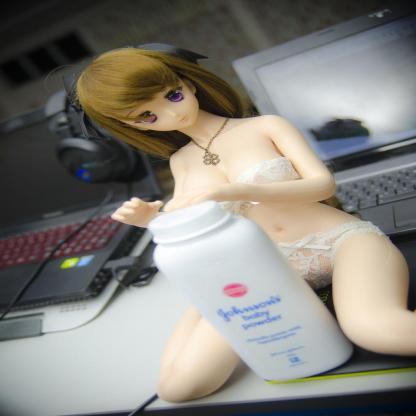board: (230, 0, 415, 235), (0, 103, 163, 311)
